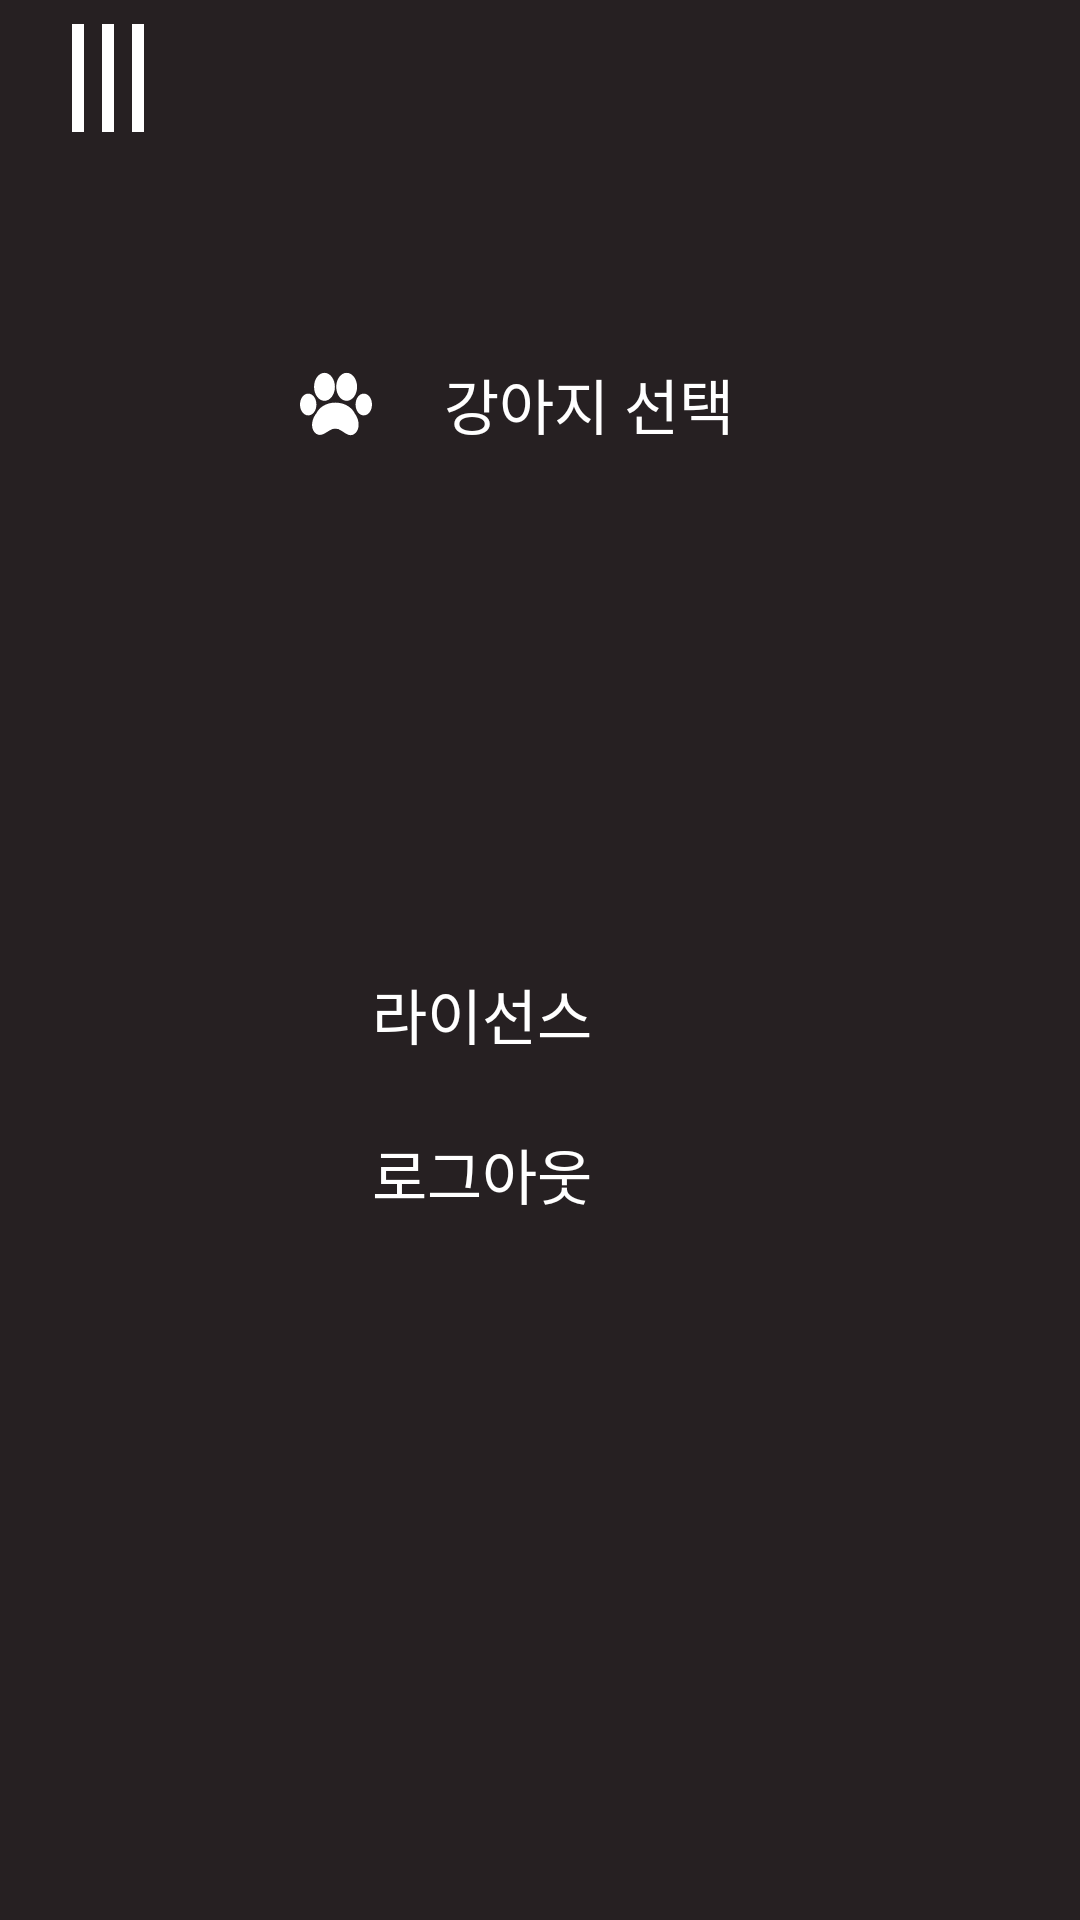

Icons on this 1080w x 1920h Android screen, each with the point to tap as point (x, y):
paw print: point (336, 404)
